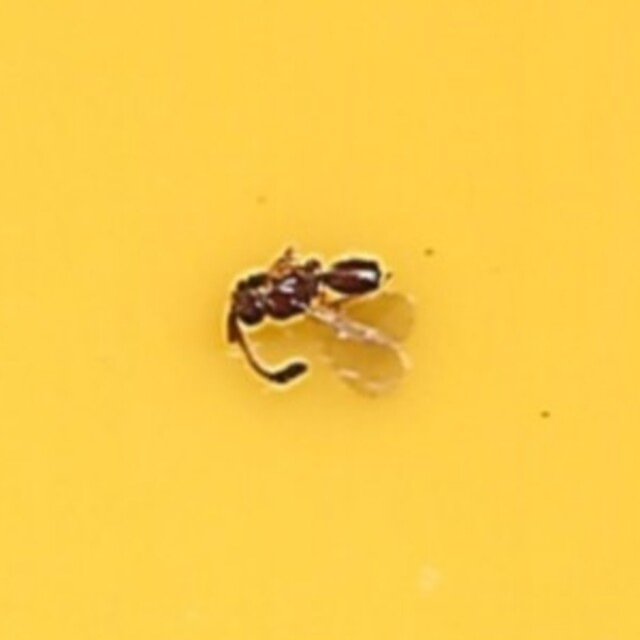Hymenoptera: (213, 241, 427, 399)
